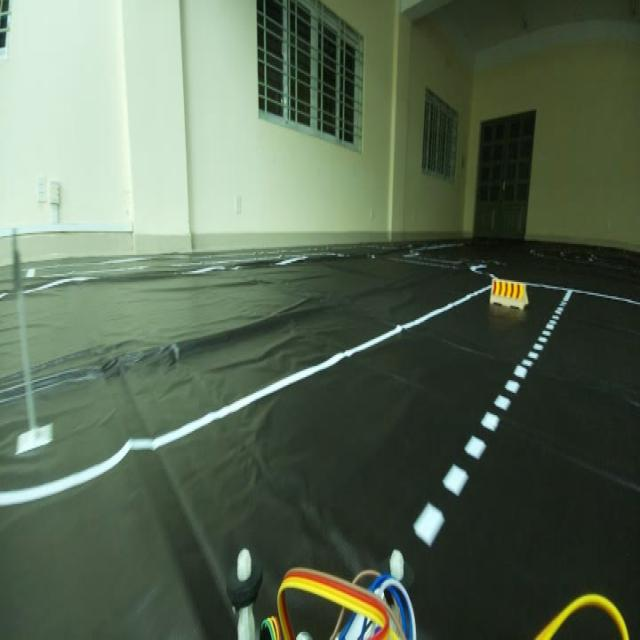roadblock: (486, 266, 530, 319)
